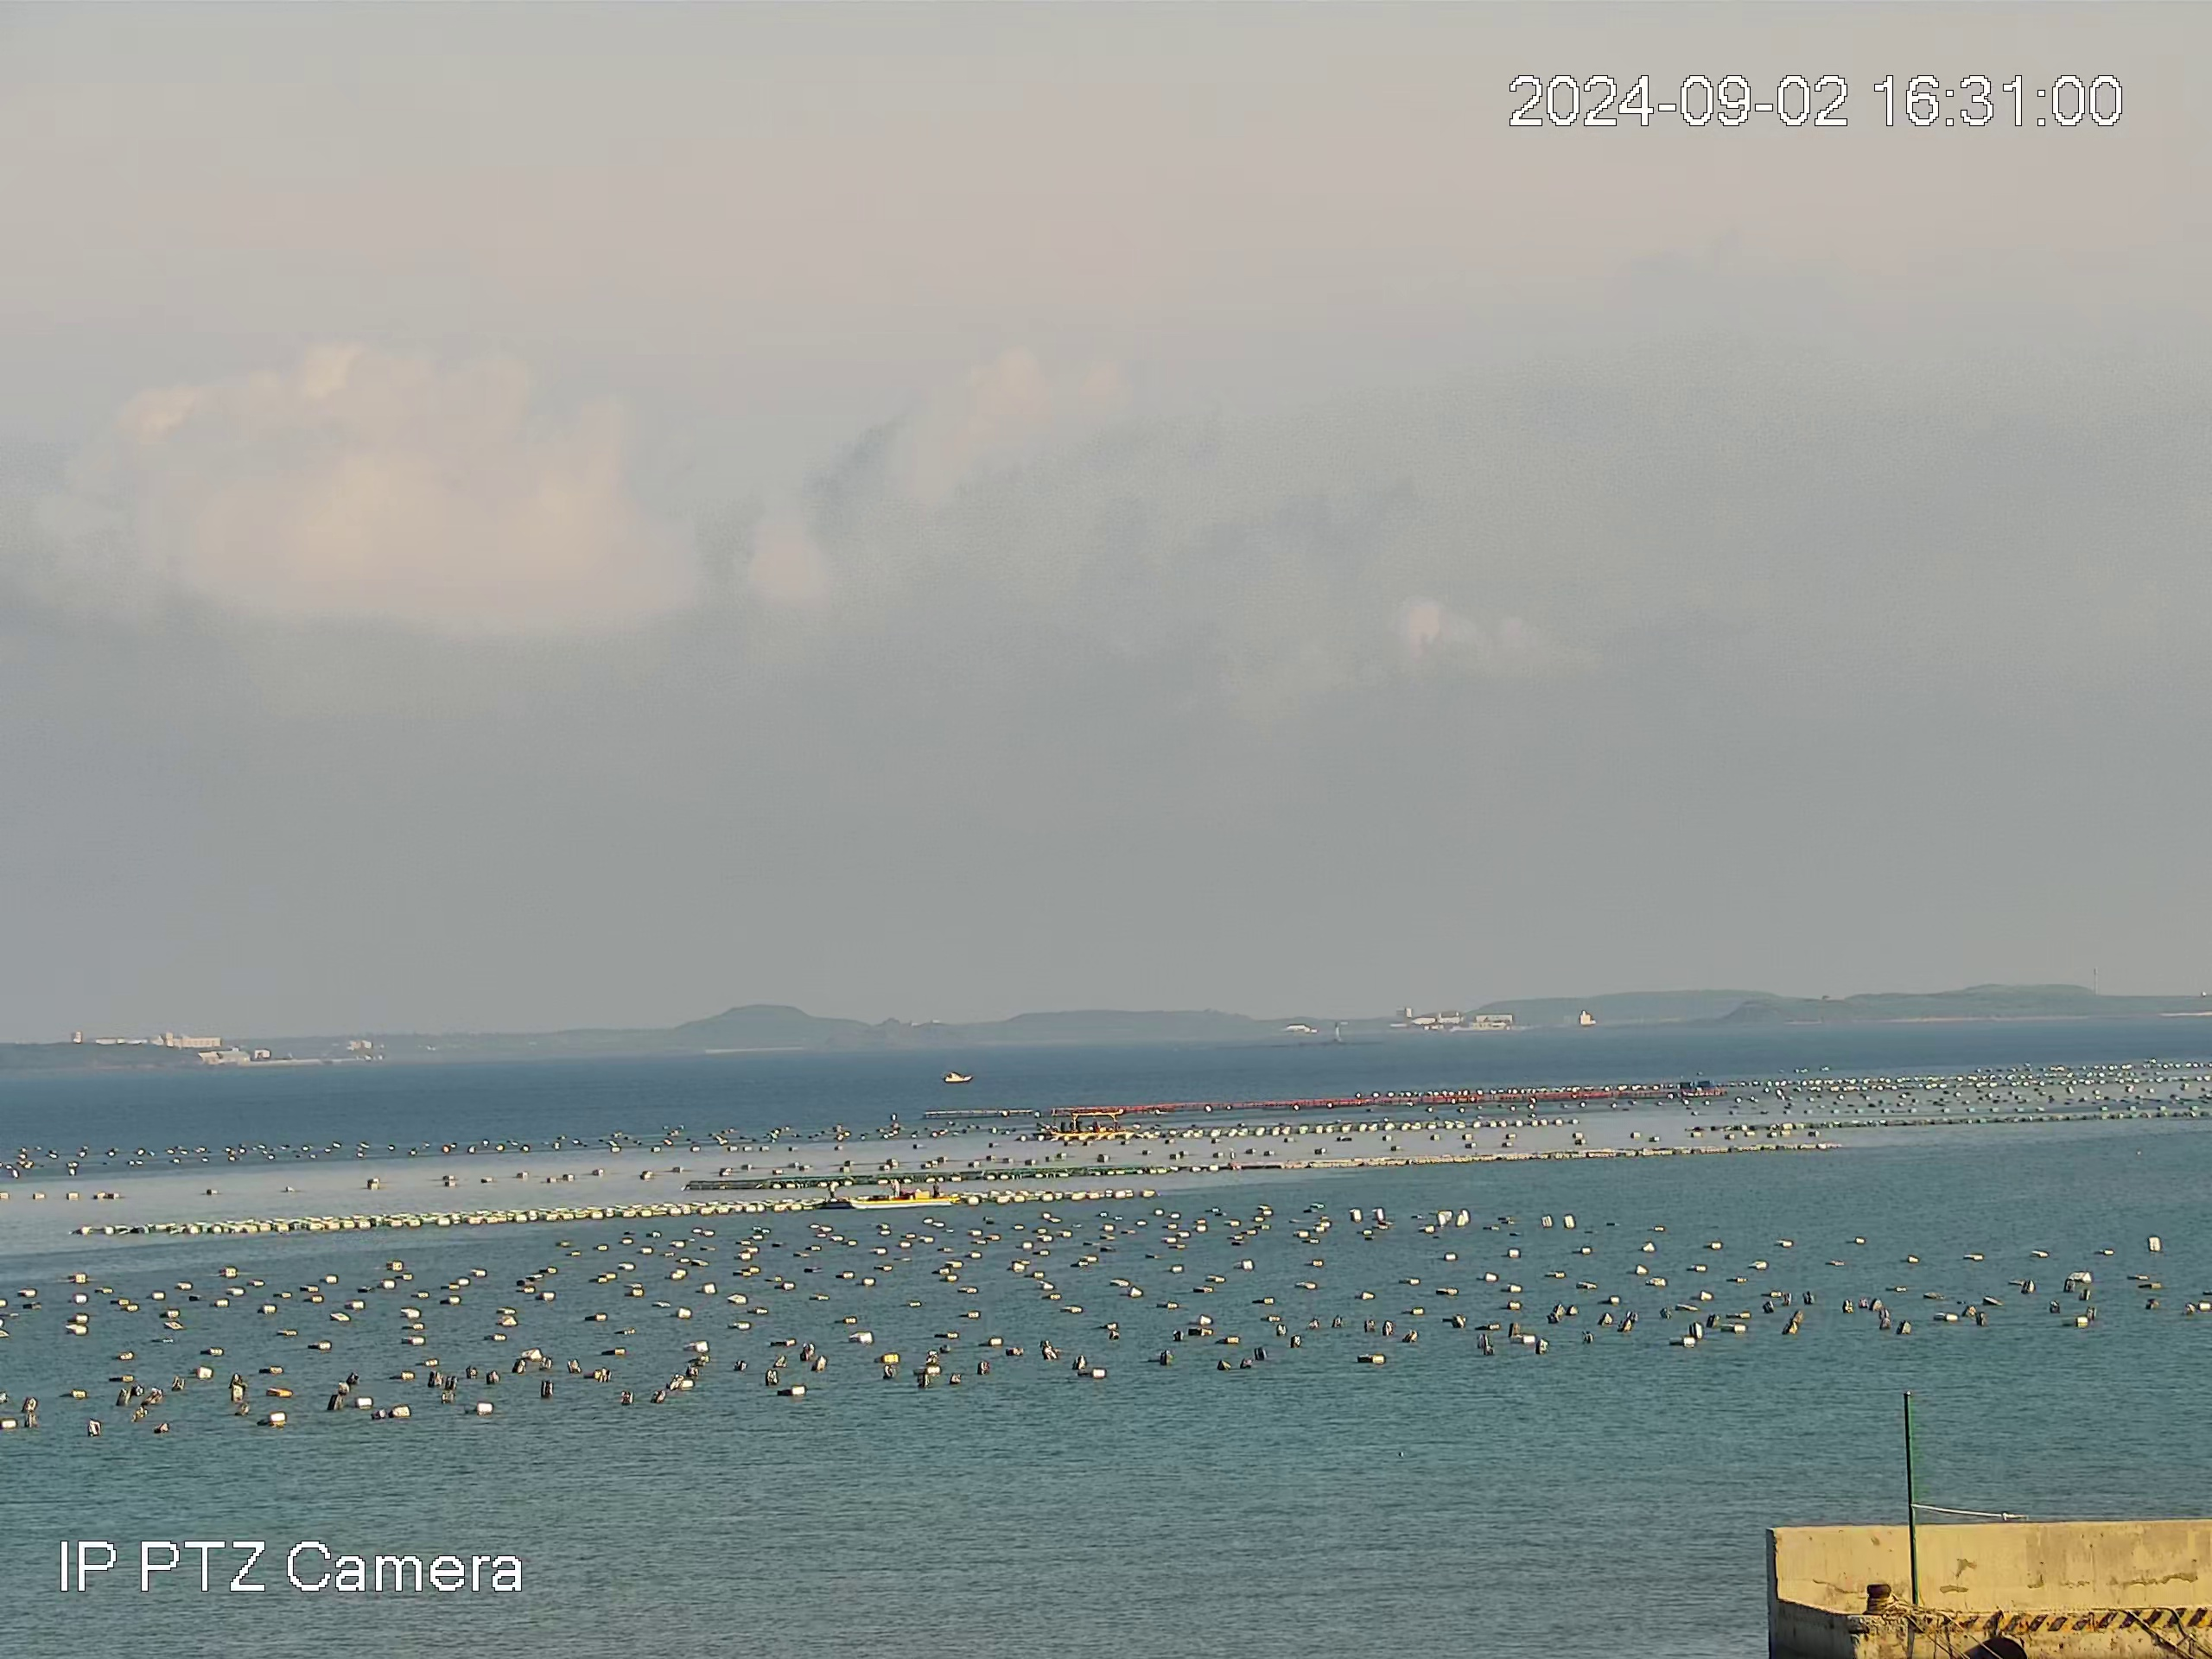boat: (843, 1176, 960, 1211), (1047, 1108, 1129, 1136), (942, 1070, 974, 1082)
